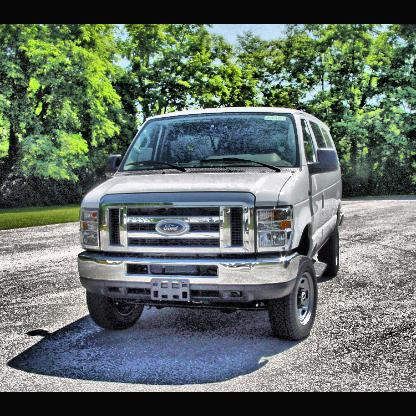Ford E-Series Wagon Van 2012: (77, 106, 347, 344)
